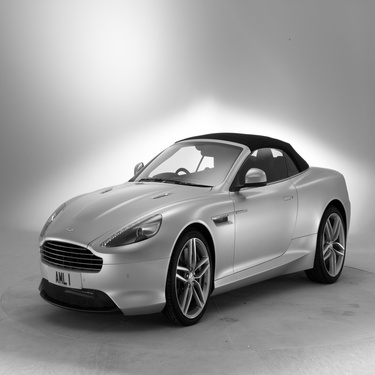car: (28, 117, 355, 331)
